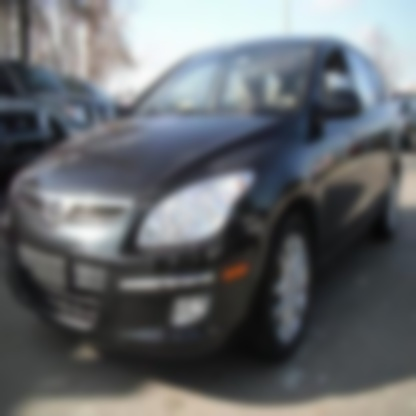Vehicle: (4, 32, 409, 372)
